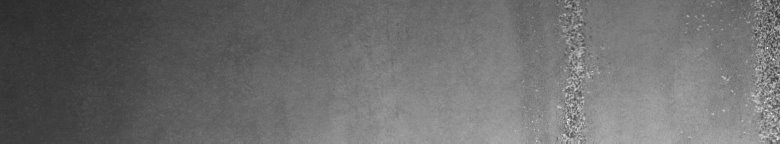hc: (686, 4, 776, 136)
